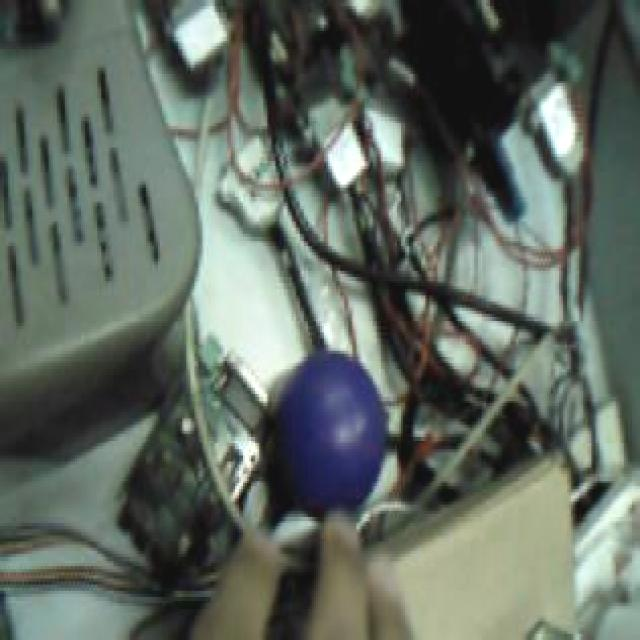BallPurple: (274, 353, 388, 511)
